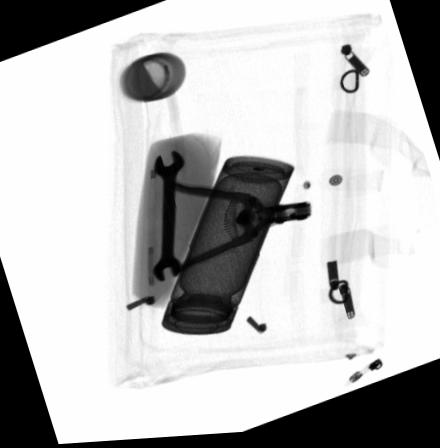Pliers: (168, 182, 309, 279)
Wrench: (151, 151, 185, 285)
